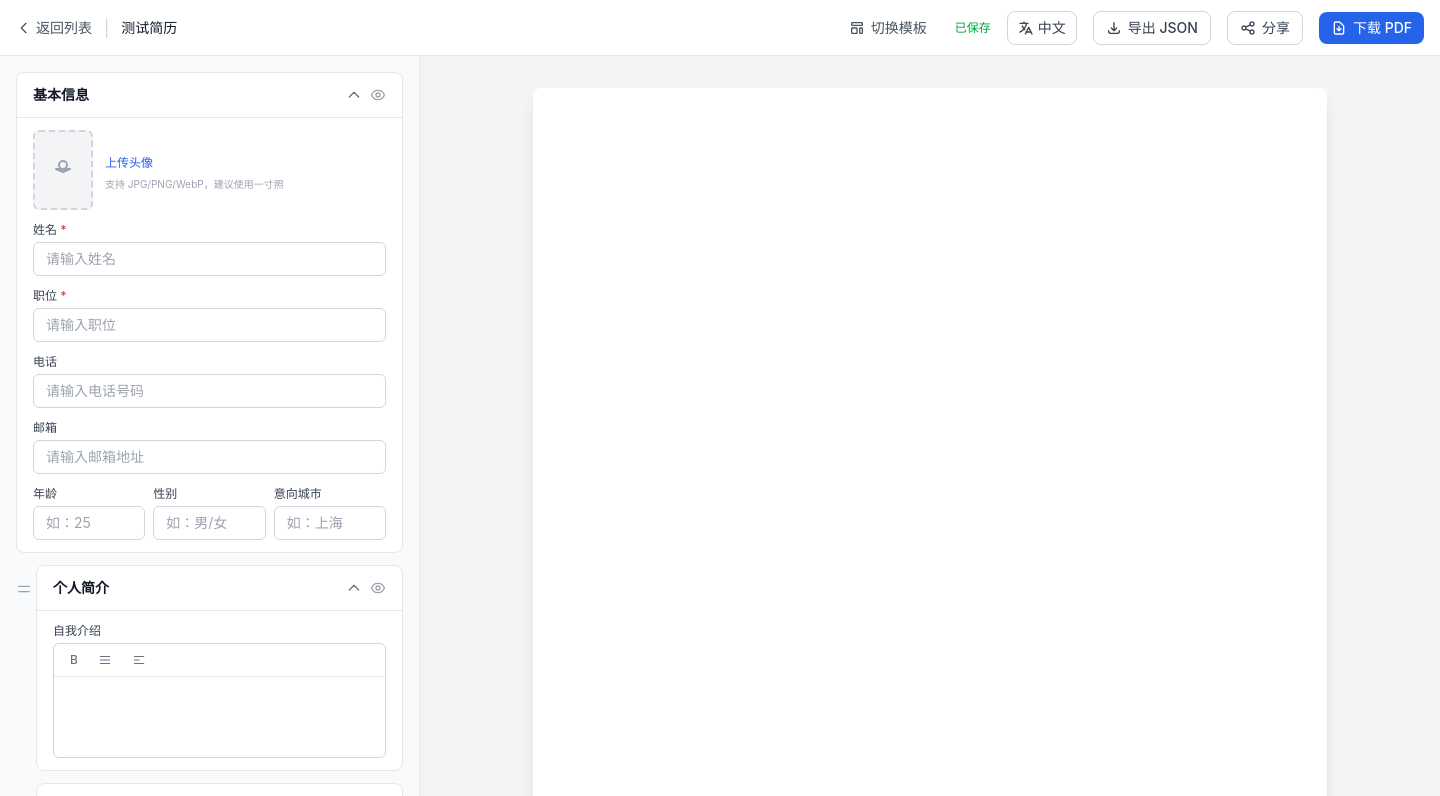
Editor 页面集成测试 › 基本信息输入后更新 store 和预览
Expected: the text "基本信息" is shown, [33,85,89,105]
Type "王五" into the field labelled "姓名 *". click: (210, 259)
box: [33,242,386,276]
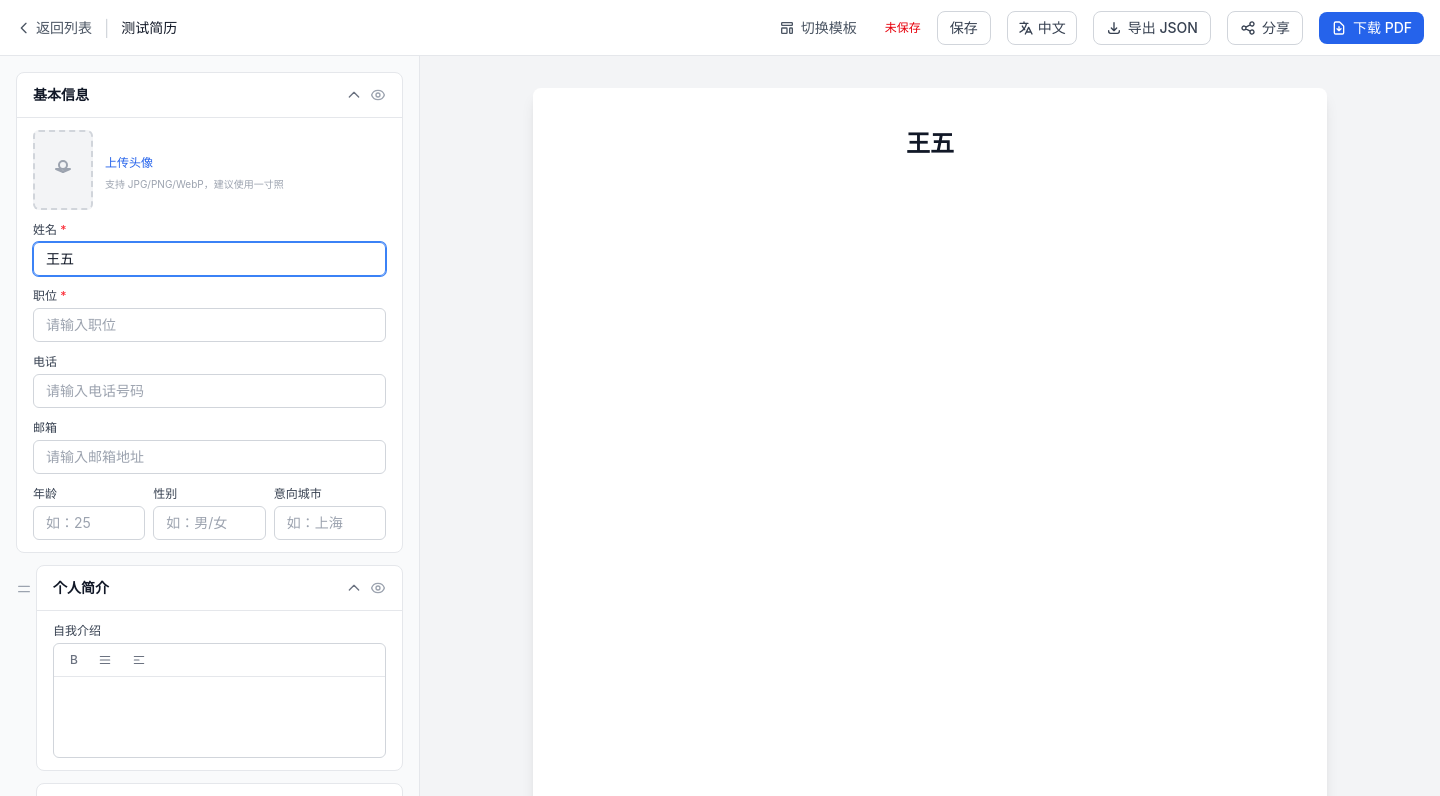
Result: the heading "王五" is shown at [906,129,954,158]
